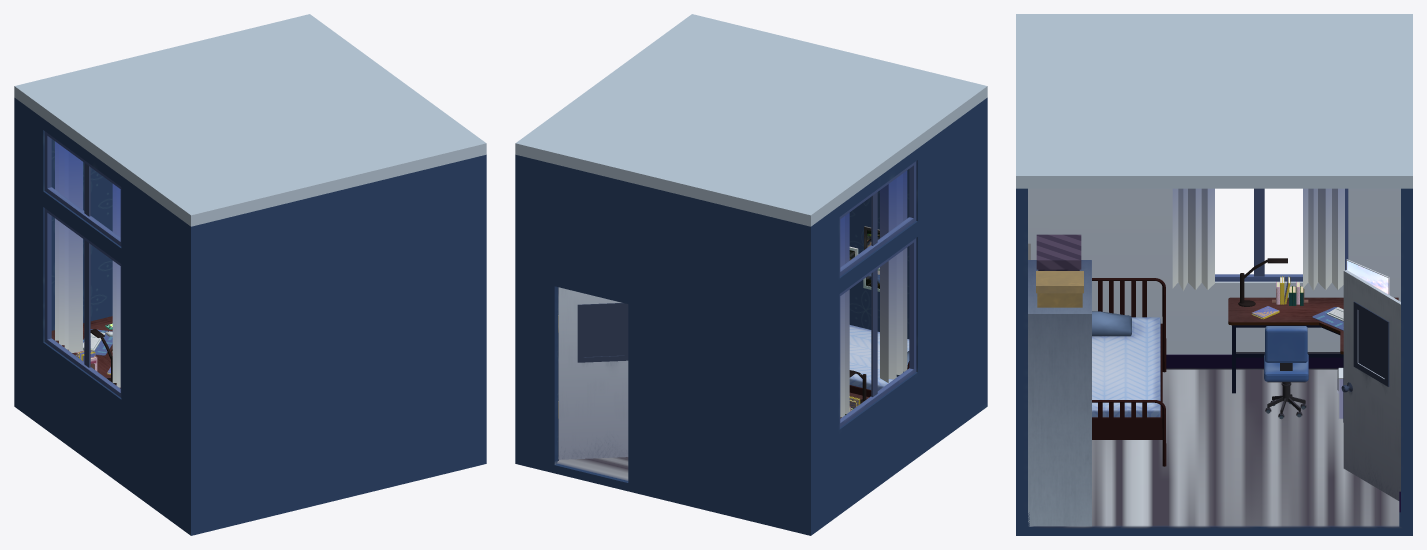
3 renders of one model, left to right at view 1: azimuth 30°, elevation 25°; view 2: azimuth 150°, elevation 25°; view 3: azimuth 270°, elevation 25°, orthographic. The views are drawn at different scales.
Visible parts, largest first — view 1: Room, Box158, Curtain01, Curtain002, Window02, Desk_T; view 2: Room, Box158, Box148_M_Door_0, Curtain002, Curtain01, Object003_M_Bed_0, Window02; view 3: Room, Box158, Box019, Box148_M_Door_0, Object003_M_Bed_0, Curtain002, Curtain01, Desk_T, Box013, Box045, Box044, Box057 (+8 smaller).
Boxes of the visible parts, x1,y1,x2,y2 form: Room: [14, 97, 486, 535]; Box158: [14, 14, 486, 226]; Curtain01: [55, 141, 82, 352]; Curtain002: [112, 184, 120, 387]; Window02: [84, 163, 90, 367]; Desk_T: [51, 316, 120, 388]; Room: [515, 97, 987, 535]; Box158: [515, 14, 987, 226]; Box148_M_Door_0: [558, 287, 628, 459]; Curtain002: [880, 170, 907, 382]; Curtain01: [840, 212, 849, 417]; Object003_M_Bed_0: [849, 325, 909, 390]; Window02: [871, 192, 877, 396]; Room: [1016, 188, 1412, 535]; Box158: [1016, 14, 1412, 188]; Box019: [1028, 260, 1091, 526]; Box148_M_Door_0: [1343, 270, 1400, 500]; Object003_M_Bed_0: [1092, 317, 1160, 417]; Curtain002: [1172, 188, 1214, 290]; Curtain01: [1303, 188, 1344, 290]; Desk_T: [1228, 297, 1398, 354]; Box013: [1092, 323, 1162, 439]; Box045: [1036, 271, 1083, 307]; Box044: [1036, 234, 1081, 270]; Box057: [1265, 326, 1307, 362].
Bounding box in the file's own units: 3.6 × 3.73 × 3.72.
Materials: 14 (12 with a texture image).
